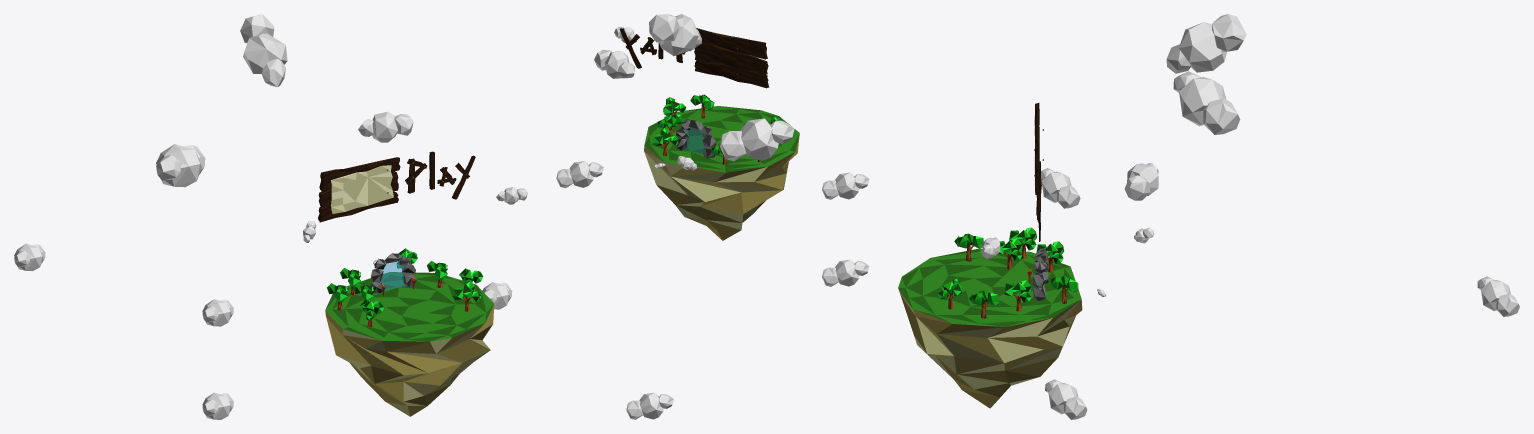
Rendered from inicio.FBX.
3 renders of one model, left to right at view 1: azimuth 30°, elevation 25°; view 2: azimuth 150°, elevation 25°; view 3: azimuth 270°, elevation 25°, orthographic. The views are drawn at different scales.
Visible parts, largest first — view 1: agua, Box004, Sphere091, Sphere074, Box001, Sphere059, Sphere092, Box003, Plane003, Sphere090, Sphere073; view 2: agua, Box002, Sphere074, Box001, Box003, Sphere091, Sphere092, Sphere075, Sphere071, Sphere094, Sphere068, Sphere077 (+3 smaller); view 3: agua, Sphere091, Sphere074, Sphere075, Sphere092, Sphere068, Sphere077, Sphere071.
Boxes of the visible parts, box(x1,y1,x2,y2) form: agua: box(325, 272, 494, 416); Box004: box(330, 165, 393, 213); Sphere091: box(243, 33, 287, 73); Sphere074: box(156, 144, 201, 187); Box001: box(319, 157, 400, 191); Sphere059: box(372, 111, 397, 142); Sphere092: box(240, 14, 274, 43); Box003: box(318, 191, 398, 222); Plane003: box(380, 259, 408, 290); Sphere090: box(261, 59, 285, 87); Sphere073: box(156, 155, 181, 180); agua: box(644, 106, 799, 240); Box002: box(694, 42, 768, 74); Sphere074: box(740, 118, 778, 160); Box001: box(696, 28, 767, 59); Box003: box(694, 60, 769, 88); Sphere091: box(659, 14, 698, 55); Sphere092: box(649, 14, 679, 43); Sphere075: box(719, 131, 746, 161); Sphere071: box(835, 172, 859, 199); Sphere094: box(835, 259, 859, 286); Sphere068: box(569, 161, 593, 187); Sphere077: box(639, 392, 663, 419); agua: box(898, 248, 1082, 408); Sphere091: box(1178, 22, 1226, 72); Sphere074: box(1179, 77, 1226, 126); Sphere075: box(1203, 98, 1240, 134); Sphere092: box(1212, 14, 1246, 51); Sphere068: box(1048, 383, 1078, 414); Sphere077: box(1481, 280, 1510, 311); Sphere071: box(1041, 171, 1071, 202).
Size of the model in its own units: 3674 by 3646 by 5586.
